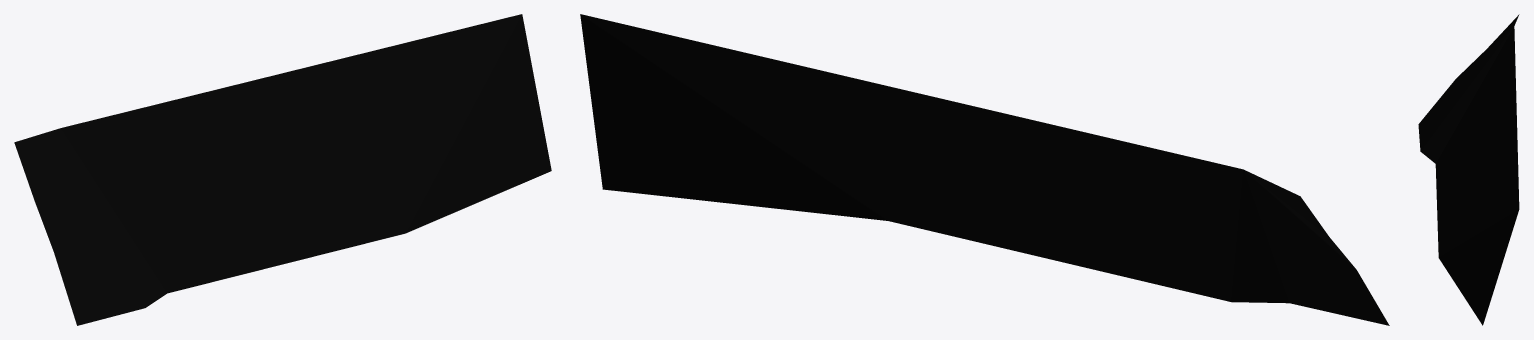
3 views of the same model, side by side, from view 1: azimuth 30°, elevation 25°; view 2: azimuth 150°, elevation 25°; view 3: azimuth 270°, elevation 25° (orthographic). The views are drawn at different scales.
Bounding box in the file's own units: 17.36 × 4.63 × 3.68.
1 material, 1 textured.
